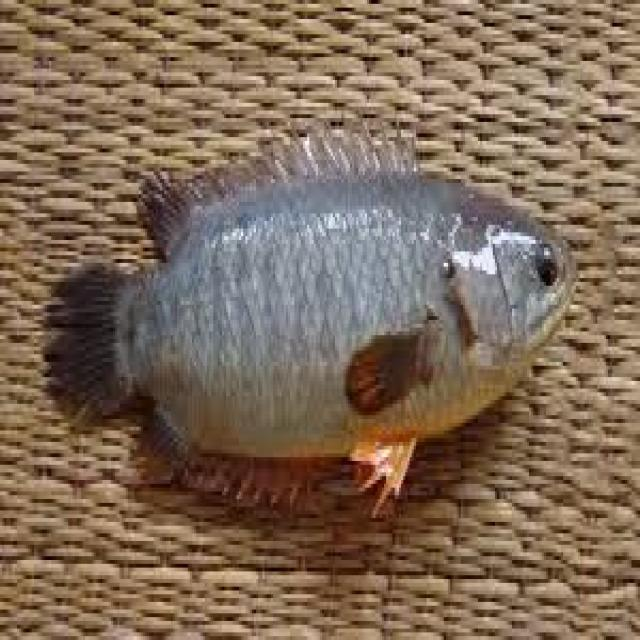Climbing-Perch: (29, 129, 605, 550)
